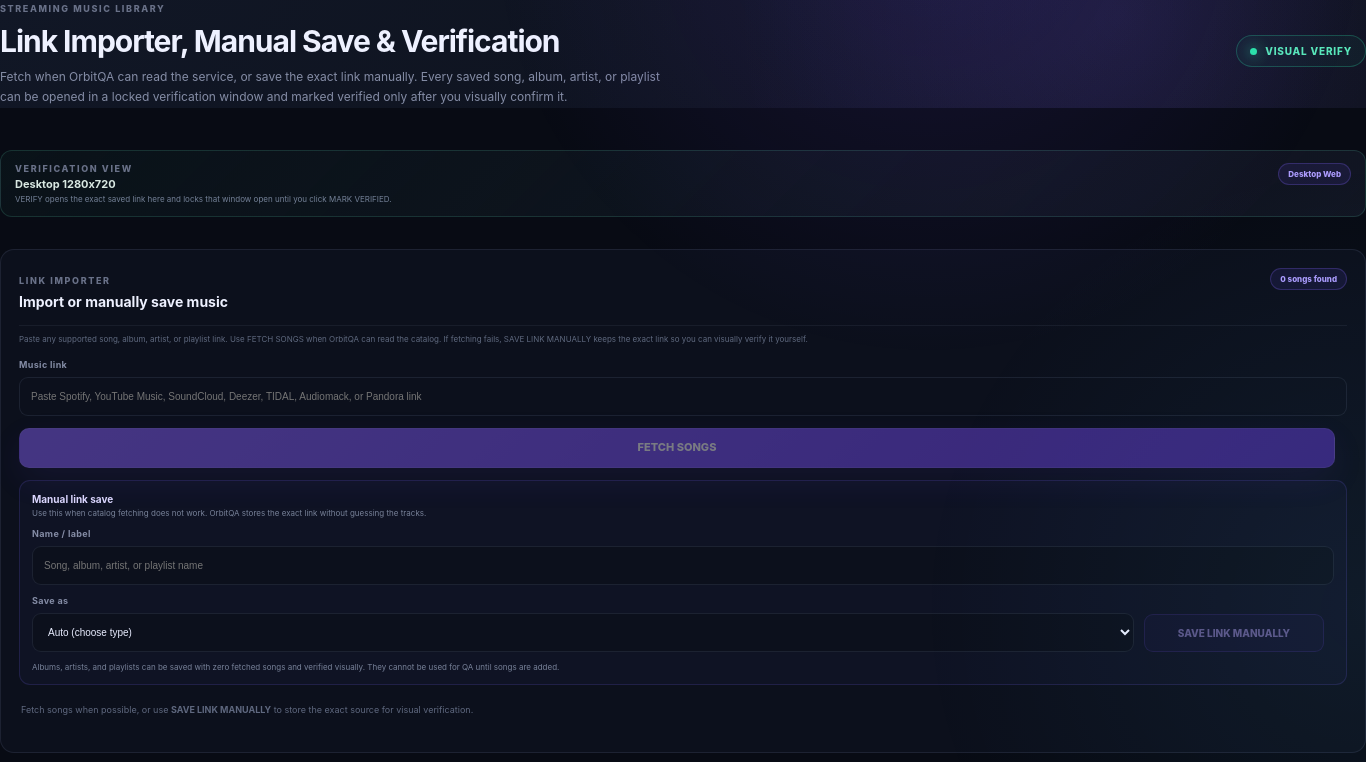
Test: Streaming Hub and Music Library › auto-detects YouTube Music from the pasted link on Music Library without manual platform switching
The width and height of the screenshot is (1366, 762).
Replace the text in the field with placeholder "Paste Spotify, YouTube Music" with "https://music.youtube.com/playlist?list=abc". click: (683, 396)
box: [19,377,1347,416]
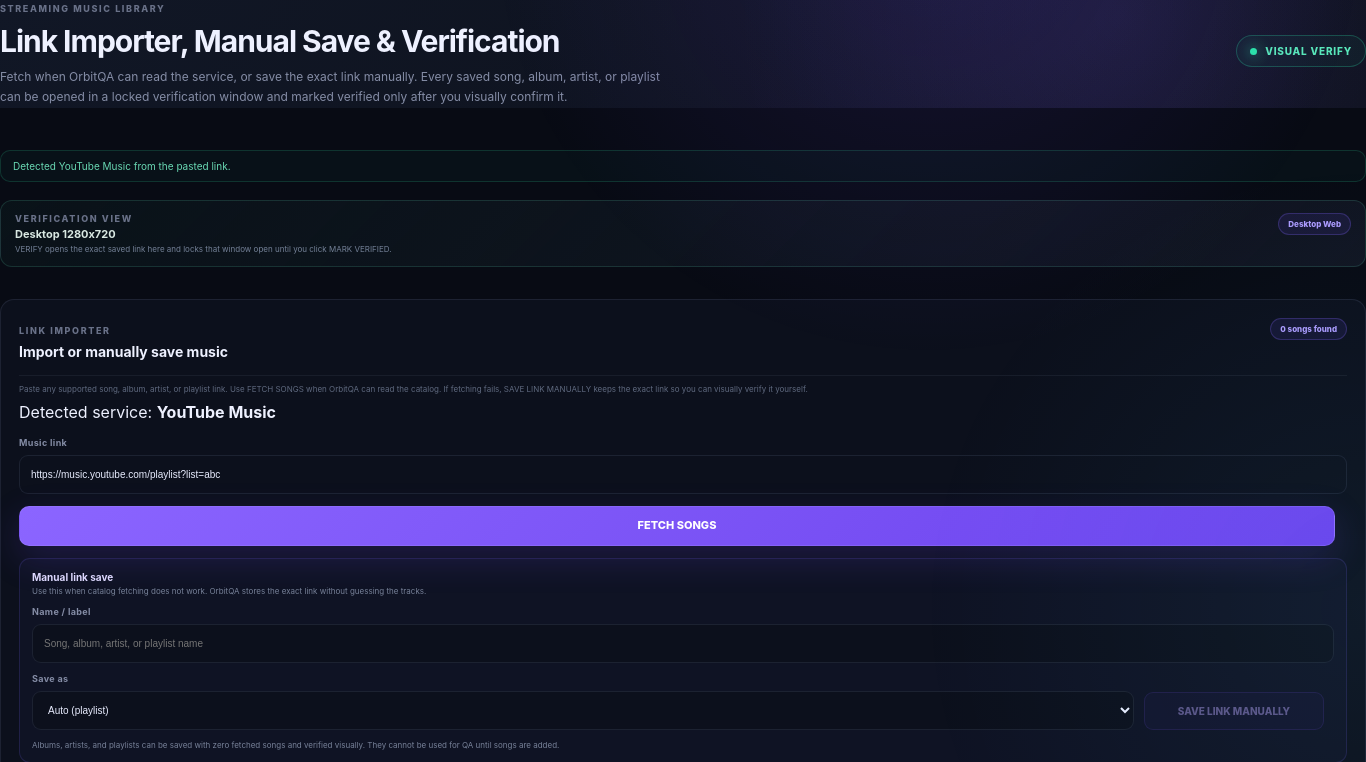
Now the text "Detected service: YouTube Music" is shown, box [19,402,276,422]
Click the button "FETCH SONGS". click: (677, 526)
box: [19,506,1335,546]
(page scrolled)
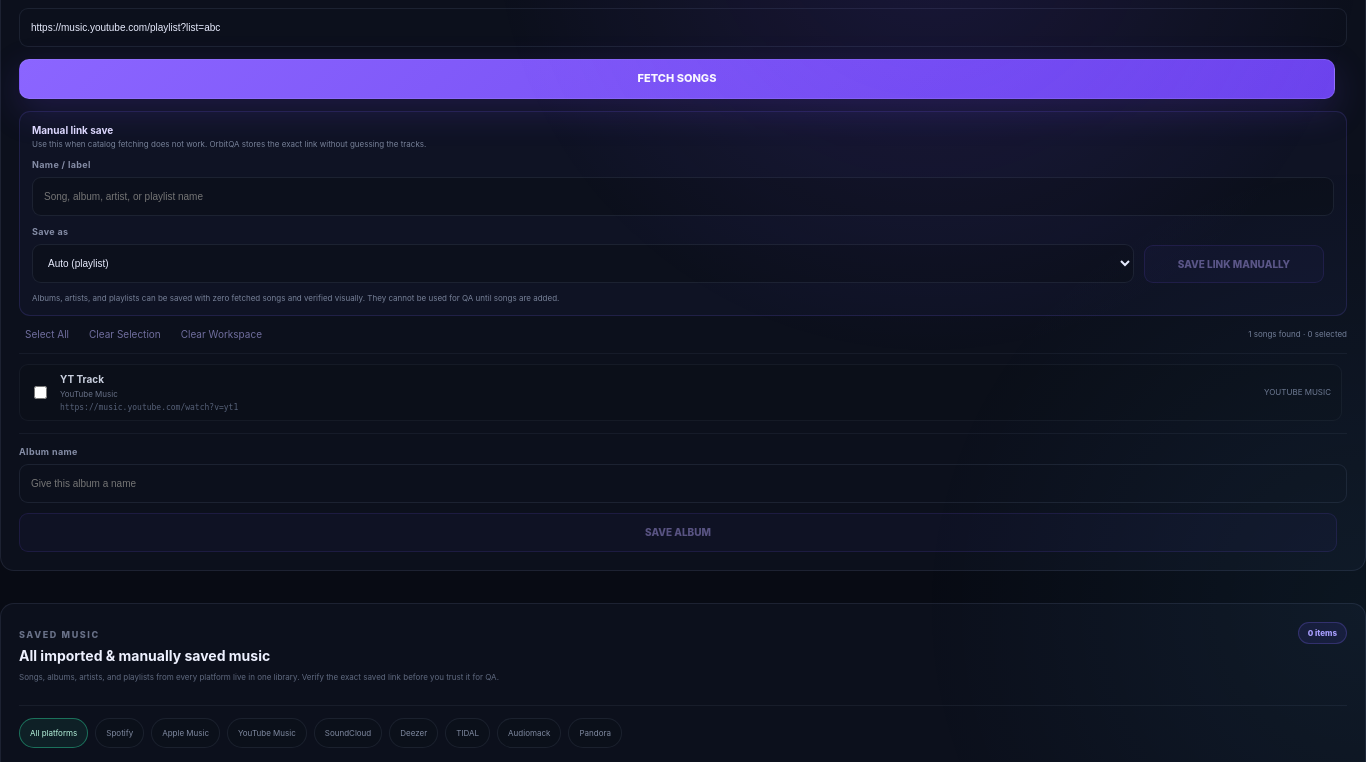
Now the text "YT Track" is shown, box [60,373,104,385]
